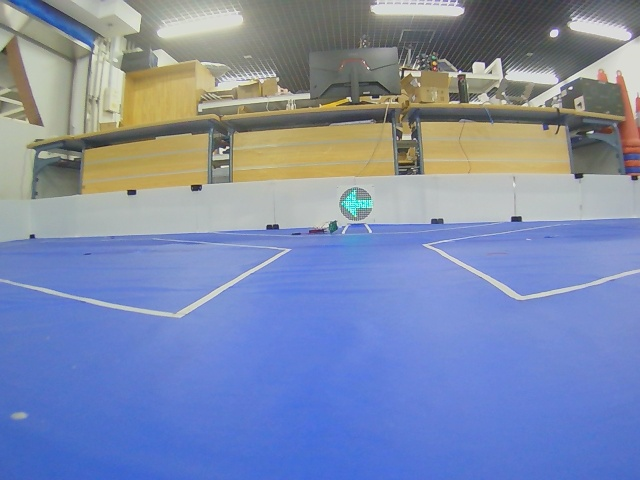left_green: (339, 187, 373, 221)
